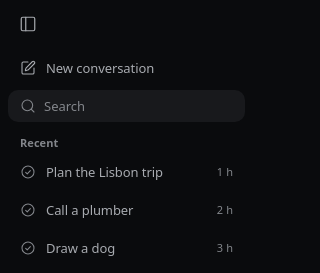
Test case: searches names as you type and what was said once typing pauses, marking why each matched
Check: the button "Plan the Lisbon trip 1 h" is shown, box [8,154,245,190]
In the field named "Search conversations": [142, 106] box [44,91,240,121], type "lisbn"
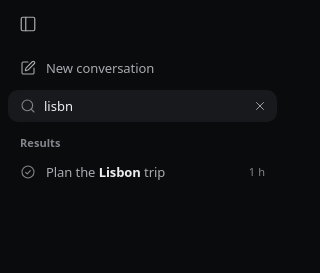
Check: the number of list items is 1, box [8,154,277,190]
Replace the text in the field named "Search conversations" with "boiler": [142, 106] box [44,91,240,121]
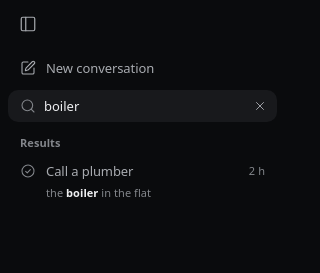
Check: the text "boiler" is shown, box [66,186,98,200]
Check: the element showing "the boiler in the flat" is shown, box [46,185,151,200]
Press ArrowDown in the field named "Search conversations", box [44,91,240,121]
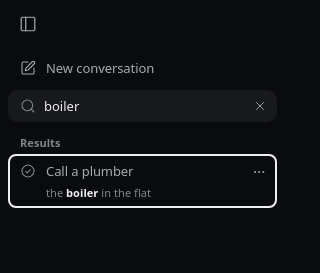
Press ArrowUp in the button "Call a plumber the boiler in the flat", box [8,154,277,208]
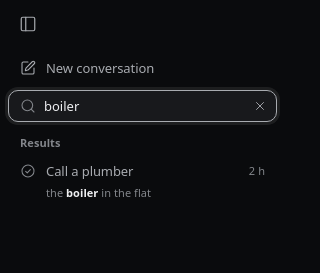
Press Escape in the field named "Search conversations", box [44,91,240,121]
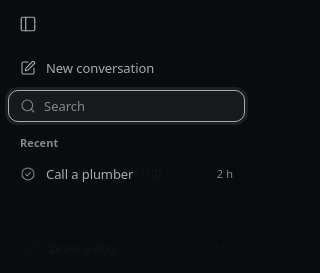
Check: the field named "Search conversations" is empty
Check: the text "Results" is gone
In the field named "Search conversations": [142, 106] box [44,91,240,121], type "zebra"
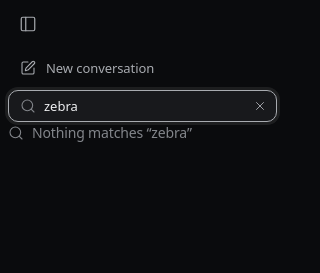
Check: the text "Nothing matches “zebra”" is shown, box [32,122,192,143]
